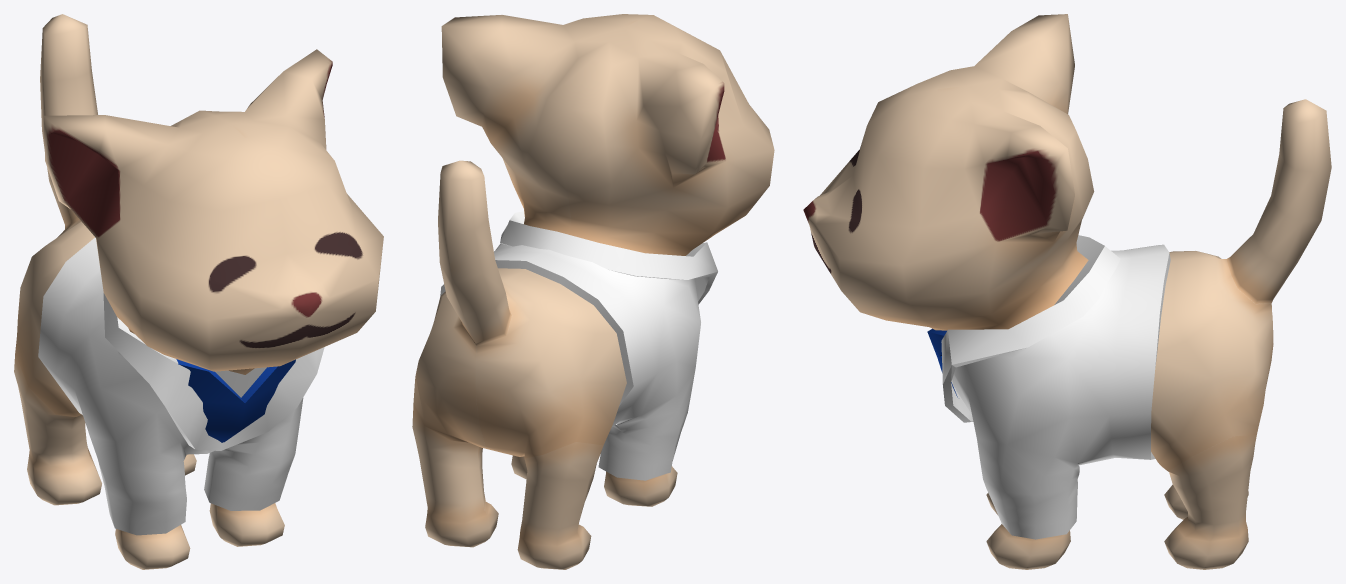
Rendered from Doctor Cat01.fbx.
3 renders of one model, left to right at view 1: azimuth 30°, elevation 25°; view 2: azimuth 150°, elevation 25°; view 3: azimuth 270°, elevation 25°, orthographic. The views are drawn at different scales.
Visible parts, largest first — view 1: Cat_Base, Doctor_Cat_Scrubs; view 2: Cat_Base, Doctor_Cat_Scrubs; view 3: Cat_Base, Doctor_Cat_Scrubs.
Boxes of the visible parts, bbox=[...] form: Cat_Base: bbox=[14, 14, 383, 569]; Doctor_Cat_Scrubs: bbox=[38, 237, 324, 535]; Cat_Base: bbox=[412, 14, 774, 569]; Doctor_Cat_Scrubs: bbox=[440, 211, 717, 480]; Cat_Base: bbox=[803, 14, 1331, 569]; Doctor_Cat_Scrubs: bbox=[927, 235, 1170, 539].
Size of the model in its own units: 1.75 by 2.83 by 2.68.
Materials: 3 (1 with a texture image).
